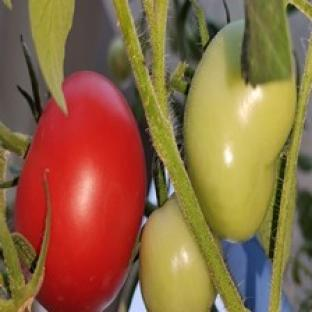Tomato: (14, 72, 146, 311), (184, 21, 296, 240), (140, 195, 215, 311)
